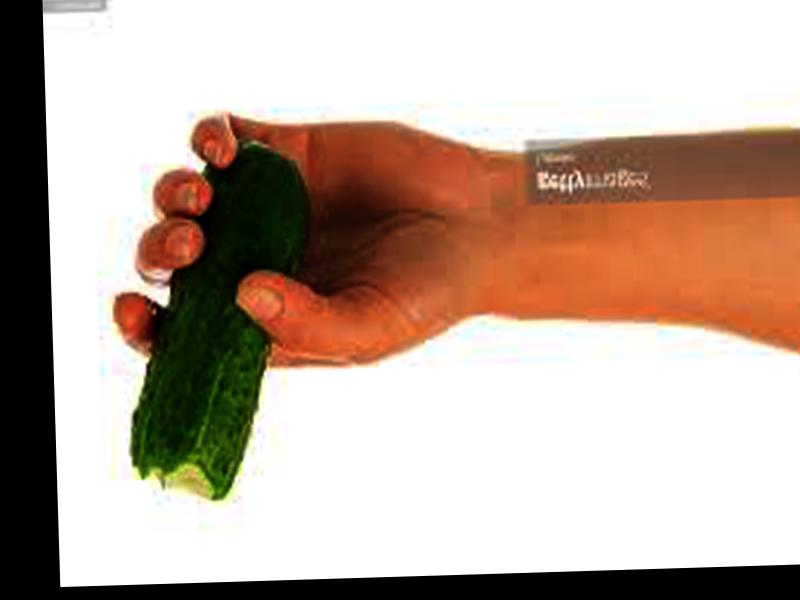Cucumber: (123, 142, 317, 502)
